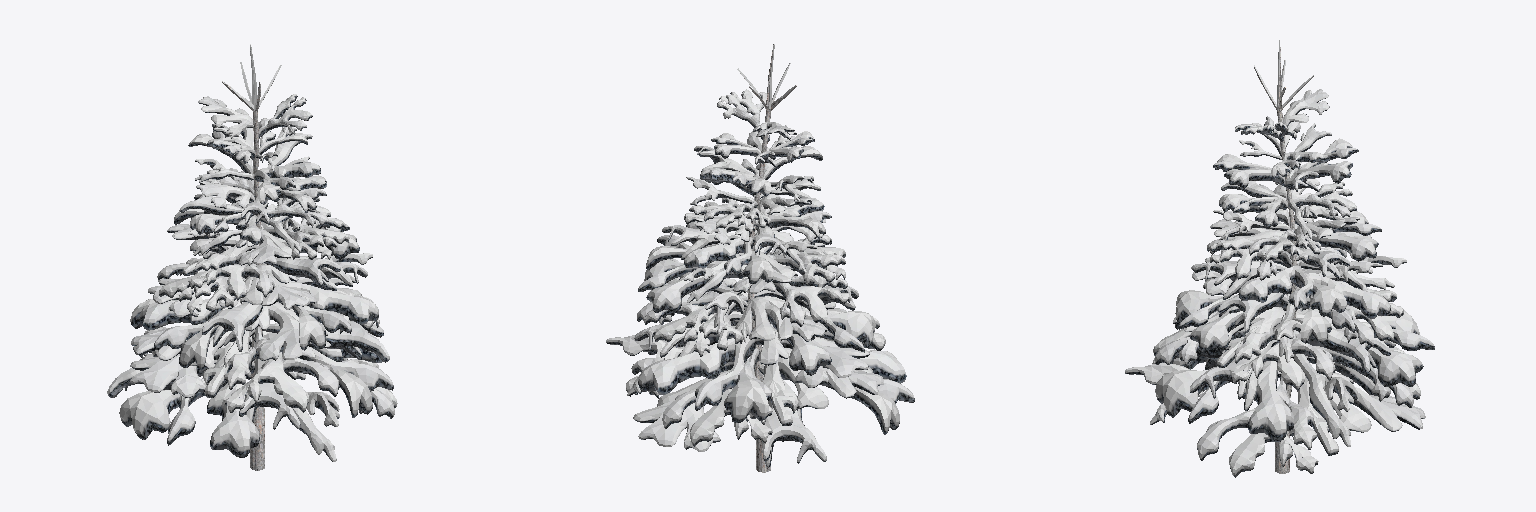
3 renders of one model, left to right at view 1: azimuth 30°, elevation 25°; view 2: azimuth 150°, elevation 25°; view 3: azimuth 270°, elevation 25°, orthographic.
Parts seen in each view (by area): view 1: Snow, Snow.001, Trunk; view 2: Snow, Snow.001, Trunk; view 3: Snow, Snow.001, Trunk.
Part boxes in pixels (left/top/right/bottom): Snow: left=107, top=94, right=397, bottom=461; Snow.001: left=130, top=118, right=393, bottom=429; Trunk: left=222, top=44, right=281, bottom=470; Snow: left=626, top=89, right=914, bottom=467; Snow.001: left=606, top=125, right=883, bottom=446; Trunk: left=737, top=44, right=796, bottom=472; Snow: left=1125, top=89, right=1434, bottom=477; Snow.001: left=1152, top=116, right=1420, bottom=446; Trunk: left=1254, top=40, right=1313, bottom=473.
Bounding box in the file's own units: 352 × 559 × 370.
Materials: 2 (1 with a texture image).